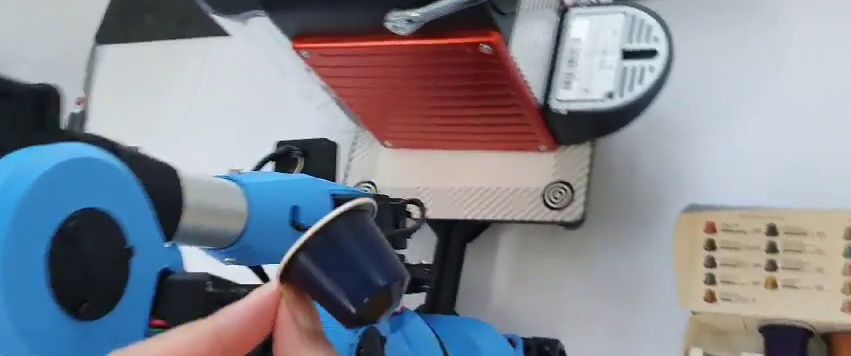capsule_1: (273, 194, 410, 333)
